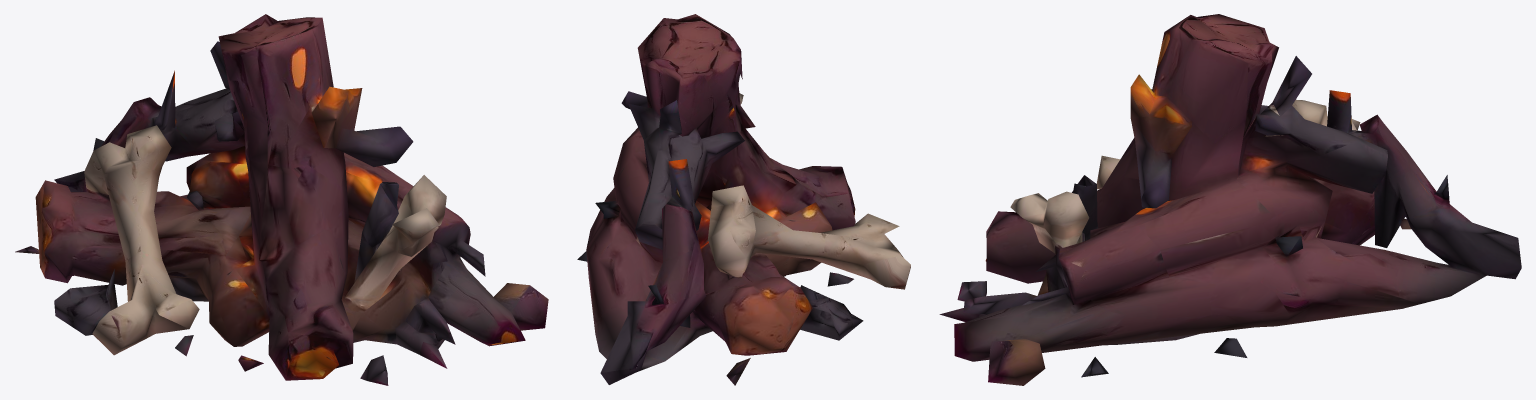
The model's file is deep-pyre.glb.
3 renders of one model, left to right at view 1: azimuth 30°, elevation 25°; view 2: azimuth 150°, elevation 25°; view 3: azimuth 270°, elevation 25°, orthographic. The views are drawn at different scales.
Parts seen in each view (by area): view 1: tripo_node_f40514a8-c04c-4116-b246-0519d6ea0c61; view 2: tripo_node_f40514a8-c04c-4116-b246-0519d6ea0c61; view 3: tripo_node_f40514a8-c04c-4116-b246-0519d6ea0c61.
Boxes of the visible parts, left/top/right/bottom form: tripo_node_f40514a8-c04c-4116-b246-0519d6ea0c61: left=15, top=14, right=548, bottom=385; tripo_node_f40514a8-c04c-4116-b246-0519d6ea0c61: left=577, top=14, right=910, bottom=385; tripo_node_f40514a8-c04c-4116-b246-0519d6ea0c61: left=939, top=14, right=1521, bottom=385.
Size of the model in its own units: 0.7819 by 0.5356 by 0.9881.
1 material, 1 textured.
